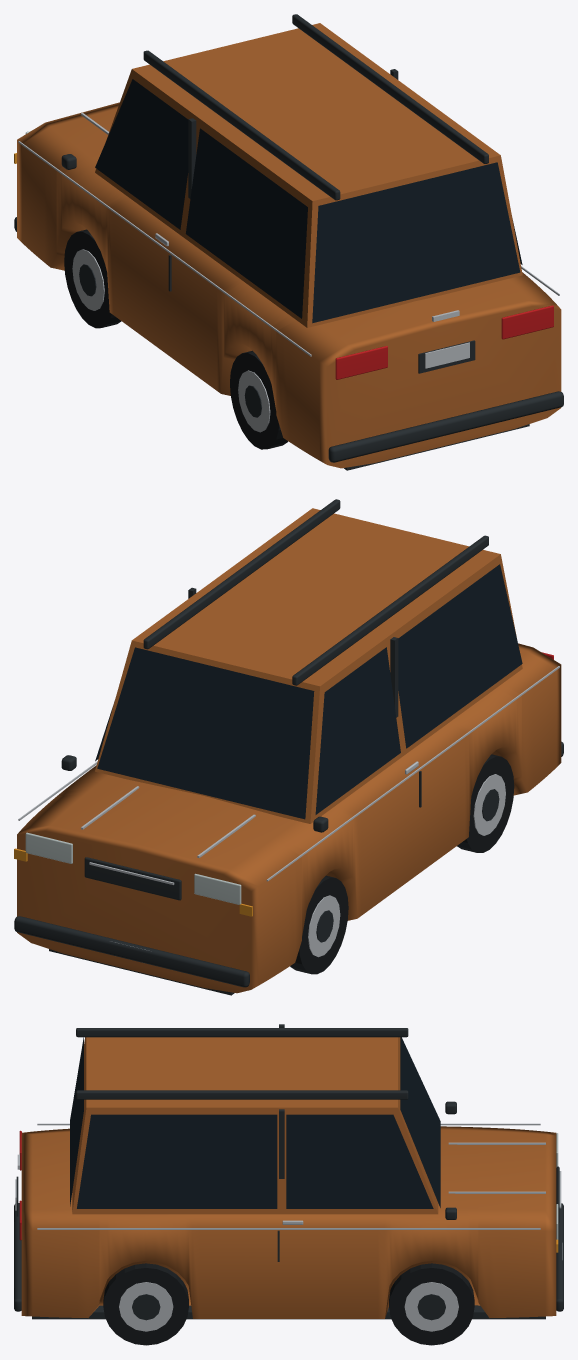
File: traffic_wagon_v1.glb
3 views of the same model, one above another, from view 1: azimuth 30°, elevation 25°; view 2: azimuth 150°, elevation 25°; view 3: azimuth 270°, elevation 25° (orthographic). The views are drawn at different scales.
Visible parts, largest first — view 1: sculpted body and wheel arches, solid roof and pillars, rear glass, side glass rear, side glass front, bumper, roof rail, roof rail.001, tire.002, tire, taillamp.001, taillamp (+5 smaller); view 2: sculpted body and wheel arches, solid roof and pillars, windshield, side glass rear, side glass front, bumper.001, roof rail.001, roof rail, tire, tire.002, front grille, wheel-face.004 (+4 smaller); view 3: sculpted body and wheel arches, solid roof and pillars, side glass rear.001, side glass front.001, tire.001, tire.003, windshield, roof rail.001, roof rail, wheel-face.007, wheel-face.003, rear glass (+7 smaller).
Boxes of the visible parts, <box> form: sculpted body and wheel arches: <box>17,102,561,468</box>; solid roof and pillars: <box>95,23,522,327</box>; rear glass: <box>312,162,520,323</box>; side glass rear: <box>185,128,307,318</box>; side glass front: <box>95,79,188,229</box>; bumper: <box>328,391,563,462</box>; roof rail: <box>143,50,340,200</box>; roof rail.001: <box>292,14,488,163</box>; tire.002: <box>230,350,287,449</box>; tire: <box>64,229,121,328</box>; taillamp.001: <box>501,305,553,339</box>; taillamp: <box>335,346,387,379</box>; sculpted body and wheel arches: <box>17,643,561,993</box>; solid roof and pillars: <box>95,508,522,823</box>; windshield: <box>97,647,314,819</box>; side glass rear: <box>398,564,522,748</box>; side glass front: <box>315,647,400,814</box>; bumper.001: <box>14,916,249,987</box>; roof rail.001: <box>143,499,340,649</box>; roof rail: <box>292,535,488,685</box>; tire: <box>290,875,348,974</box>; tire.002: <box>457,754,514,852</box>; front grille: <box>84,857,181,900</box>; wheel-face.004: <box>473,774,505,835</box>; sculpted body and wheel arches: <box>21,1126,556,1318</box>; solid roof and pillars: <box>72,1037,438,1214</box>; side glass rear.001: <box>77,1114,277,1208</box>; side glass front.001: <box>286,1114,433,1208</box>; tire.001: <box>389,1263,474,1345</box>; tire.003: <box>103,1263,188,1345</box>; windshield: <box>400,1037,440,1207</box>; roof rail.001: <box>76,1090,408,1099</box>; roof rail: <box>76,1028,408,1037</box>; wheel-face.007: <box>119,1282,173,1331</box>; wheel-face.003: <box>404,1282,458,1331</box>; rear glass: <box>70,1037,83,1206</box>.
Size of the model in its own units: 2.01 by 2.01 by 4.24.
